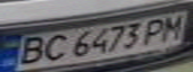3: (121, 20, 148, 51)
4: (90, 25, 112, 56)
6: (69, 28, 93, 58)
7: (106, 21, 130, 53)
B: (9, 34, 51, 66)
C: (36, 33, 72, 63)
M: (154, 12, 190, 43)
P: (136, 16, 175, 46)
